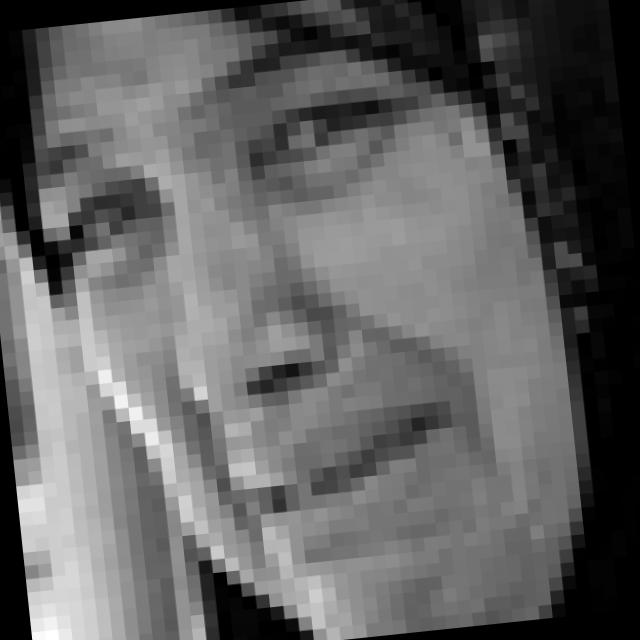sad: (23, 11, 532, 640)
